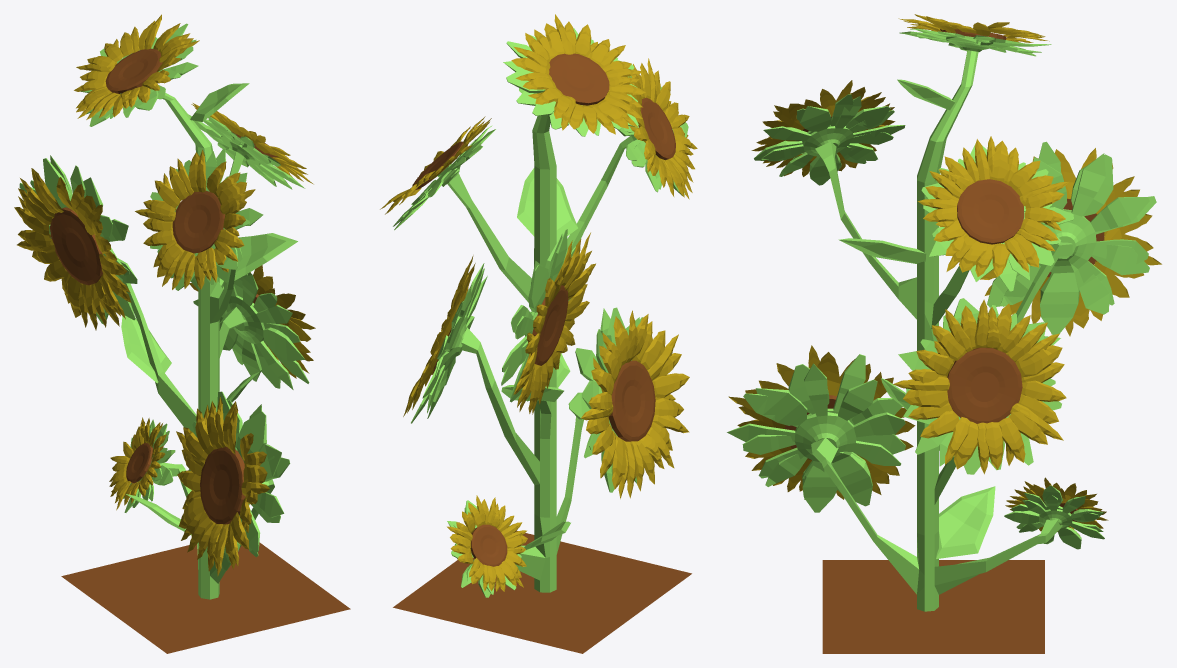
File: sunflower.fbx
3 views of the same model, side by side, from view 1: azimuth 30°, elevation 25°; view 2: azimuth 150°, elevation 25°; view 3: azimuth 270°, elevation 25° (orthographic). The views are drawn at different scales.
Visible parts, largest first — view 1: Plane.123; view 2: Plane.123; view 3: Plane.123.
Part boxes in pixels (x1,y1,x2,y2): Plane.123: [14, 14, 350, 653]; Plane.123: [380, 14, 697, 653]; Plane.123: [727, 14, 1161, 653].
Bounding box in the file's own units: 306 × 727 × 489.
